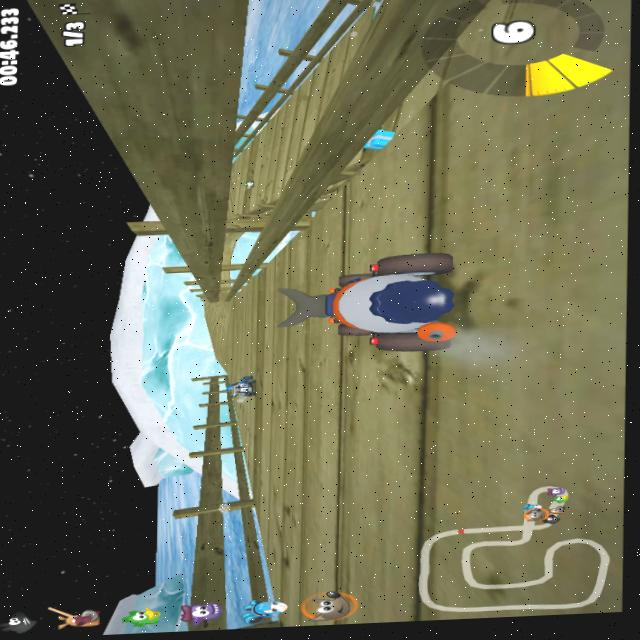enemy_kart: (227, 373, 261, 403)
player_kart: (273, 249, 476, 356)
track: (480, 0, 640, 348), (258, 343, 624, 495), (282, 478, 628, 622), (400, 99, 477, 254), (313, 199, 398, 253), (221, 290, 256, 373), (344, 169, 396, 200), (258, 491, 278, 526), (203, 301, 221, 332), (236, 405, 254, 434)
